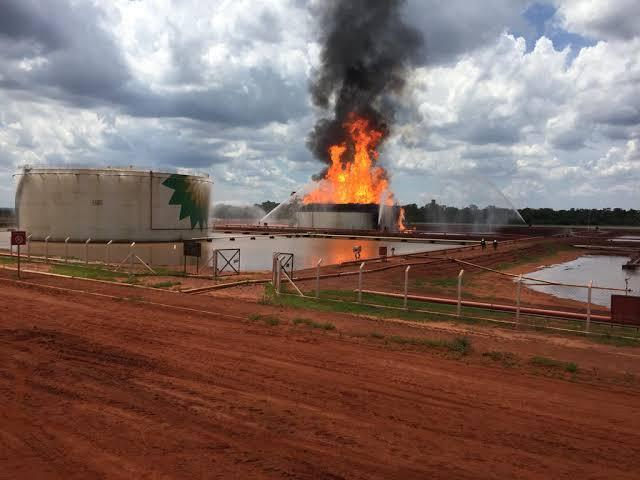fire: (328, 154, 379, 204)
smoke: (334, 16, 398, 95)
